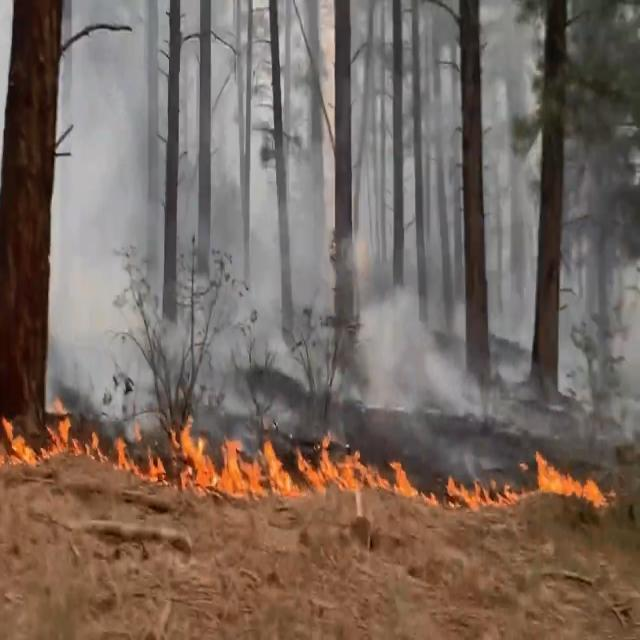Fire: (2, 388, 610, 519)
